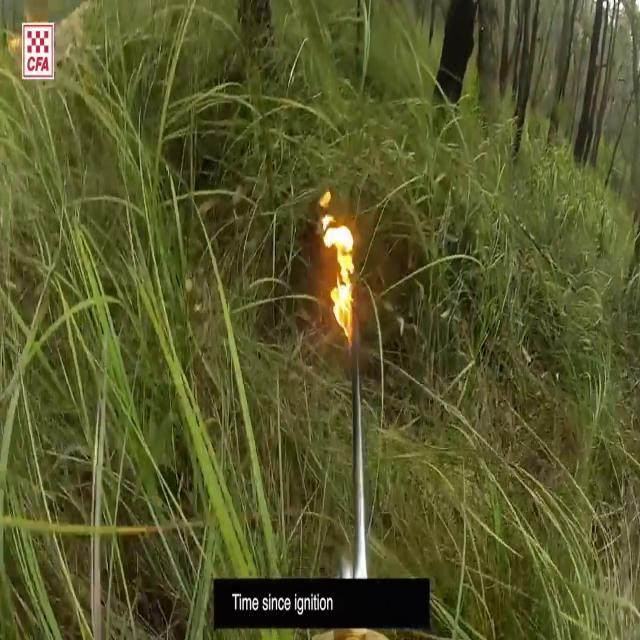Fire: (316, 190, 360, 340)
